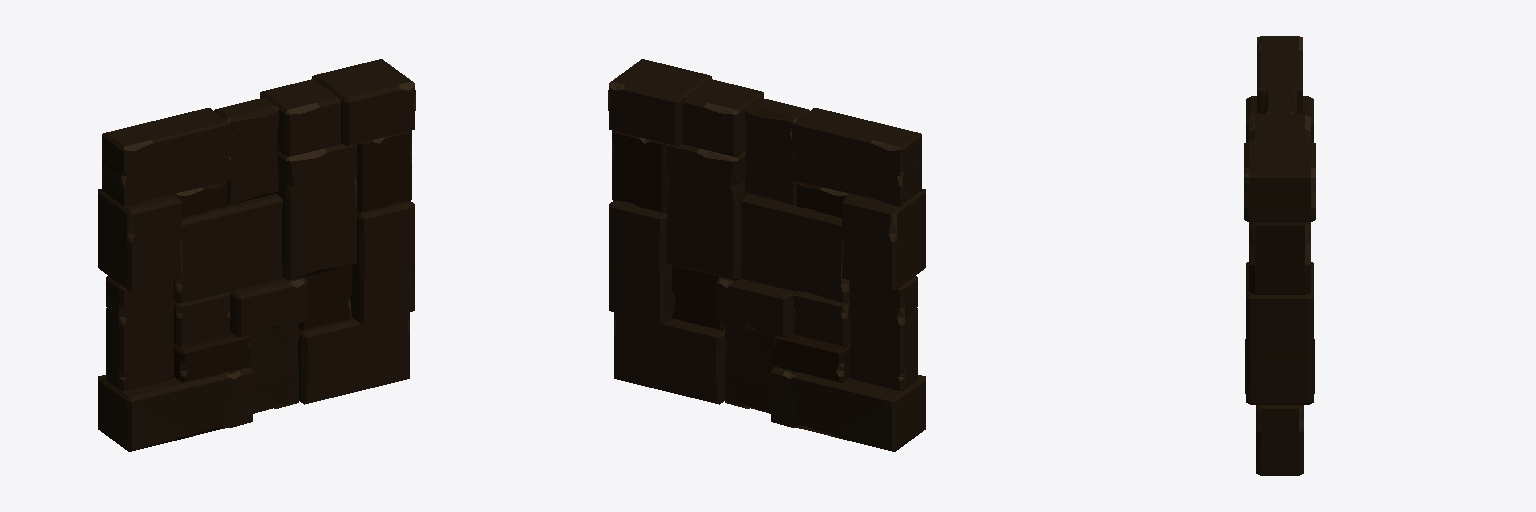
File: Wall_Modular.obj
3 renders of one model, left to right at view 1: azimuth 30°, elevation 25°; view 2: azimuth 150°, elevation 25°; view 3: azimuth 270°, elevation 25°, orthographic.
Visible parts, largest first — view 1: Wall_Modular; view 2: Wall_Modular; view 3: Wall_Modular.
Part boxes in pixels (bbox=[...]): Wall_Modular: bbox=[98, 59, 415, 451]; Wall_Modular: bbox=[608, 59, 925, 451]; Wall_Modular: bbox=[1244, 36, 1315, 475].
Bounding box in the file's own units: 2 × 2.01 × 0.4381.